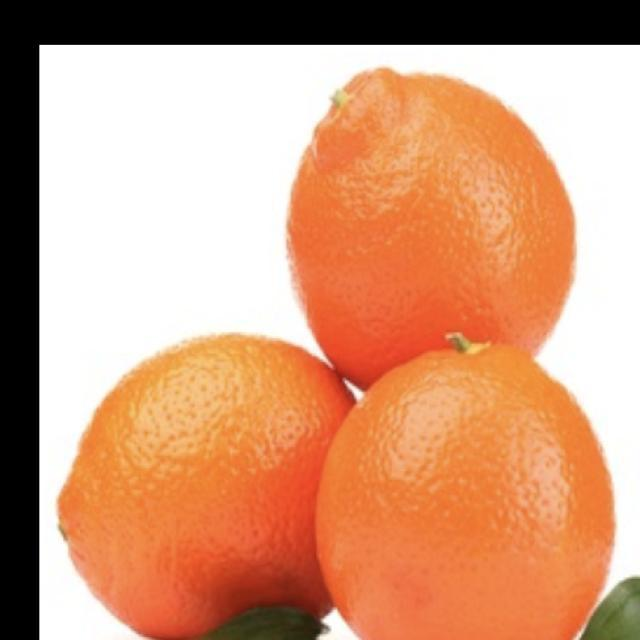Orange: (284, 65, 577, 390), (313, 332, 616, 639), (55, 331, 356, 639)
